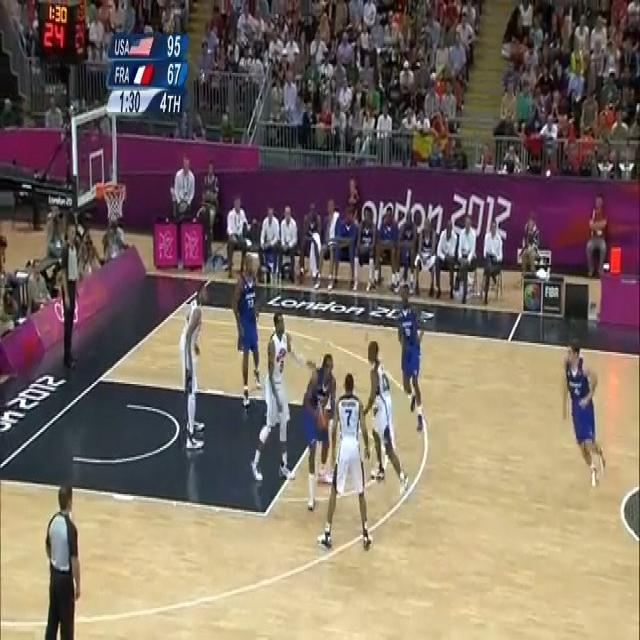basketball: (316, 406, 331, 431)
hoop: (100, 183, 126, 225)
